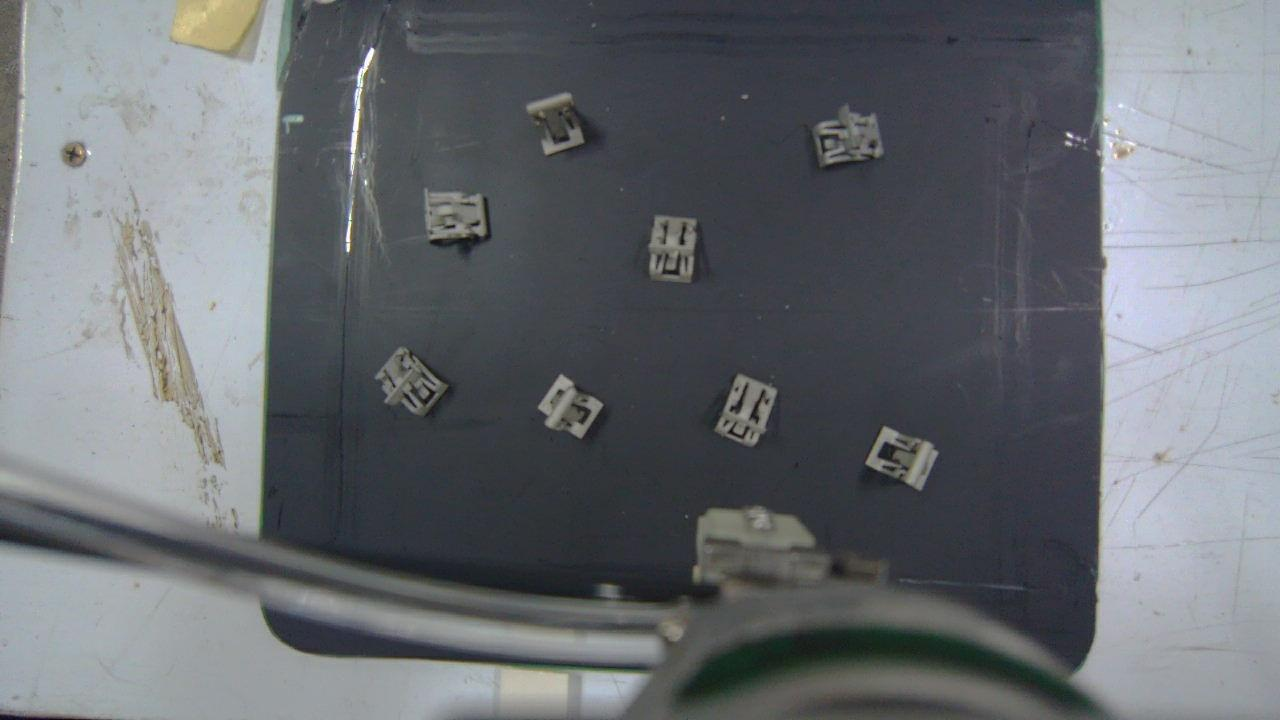ng: (377, 346, 450, 418), (864, 423, 938, 490), (713, 371, 777, 446), (816, 106, 887, 167), (526, 92, 588, 156), (424, 191, 488, 241), (650, 215, 698, 280)
pass: (533, 377, 603, 441)
